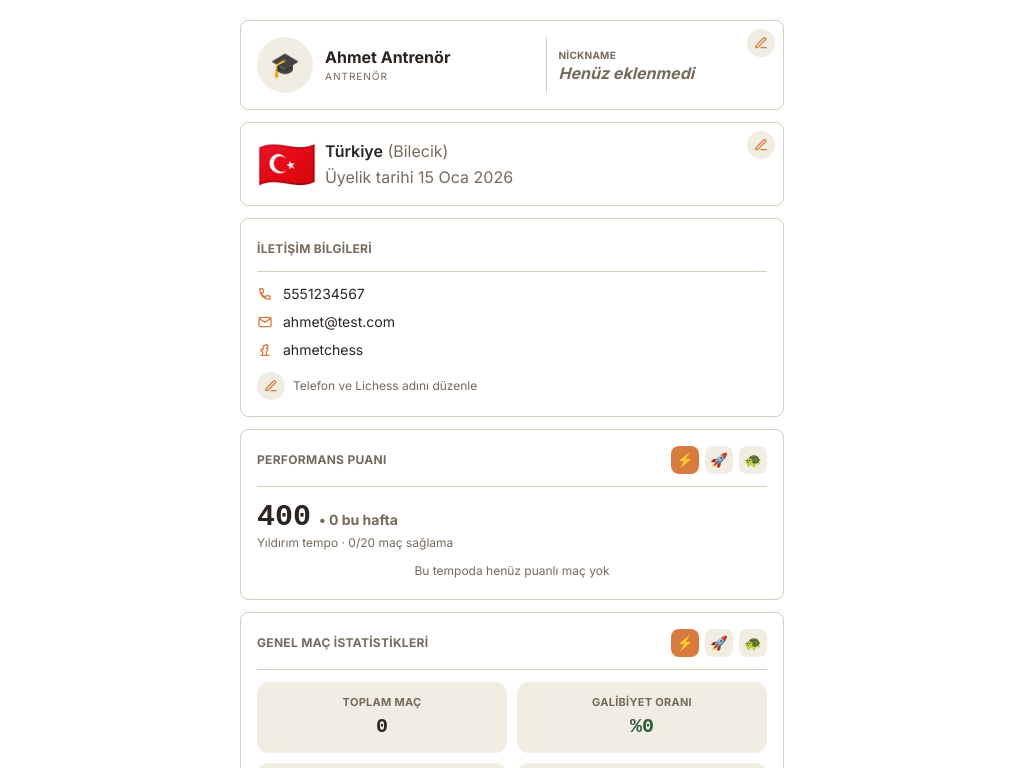
Test: Madde 2026-09-11 (Görsel Turu Aşama B / Madde 3 + S3-b): antrenör profil düzenleme › ülke/il düzenlenir: 81 il listesinden seçilip kaydedilir
Expected: the text "Ahmet Antrenör" is shown, [325,46,450,66]
Click the button named "Ülke ve şehir düzenle" at (761, 145), box [747,131,775,159]
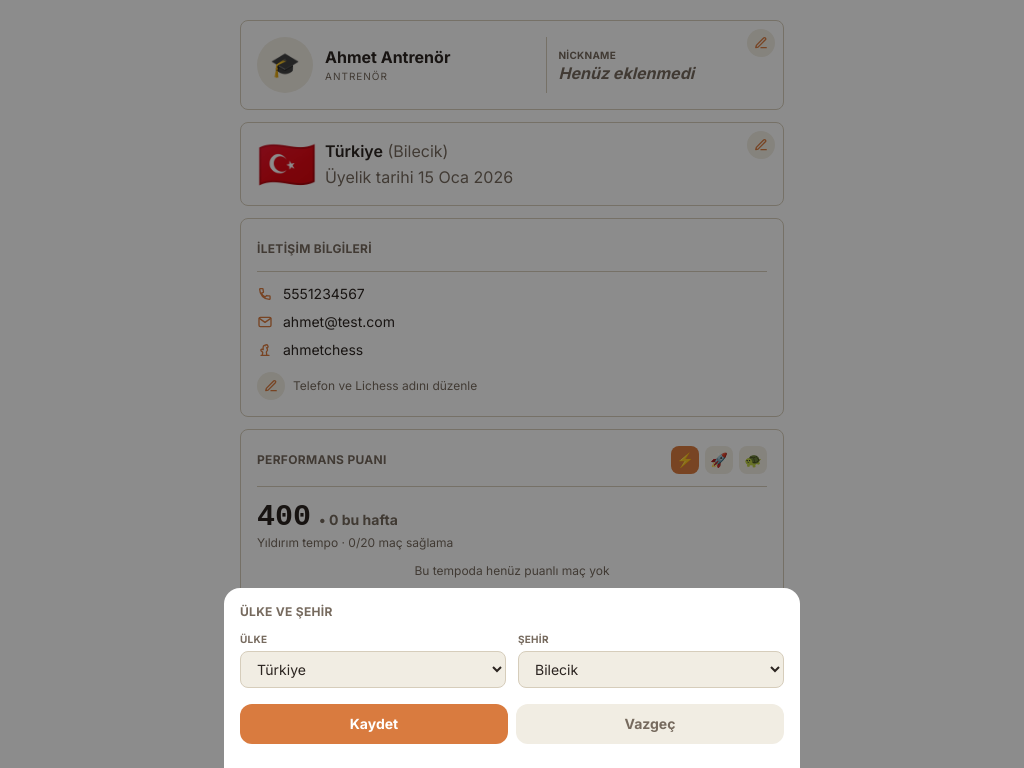
Select "Eskişehir" in the dropdown labelled "Şehir" at (651, 670), box [518,651,784,688]
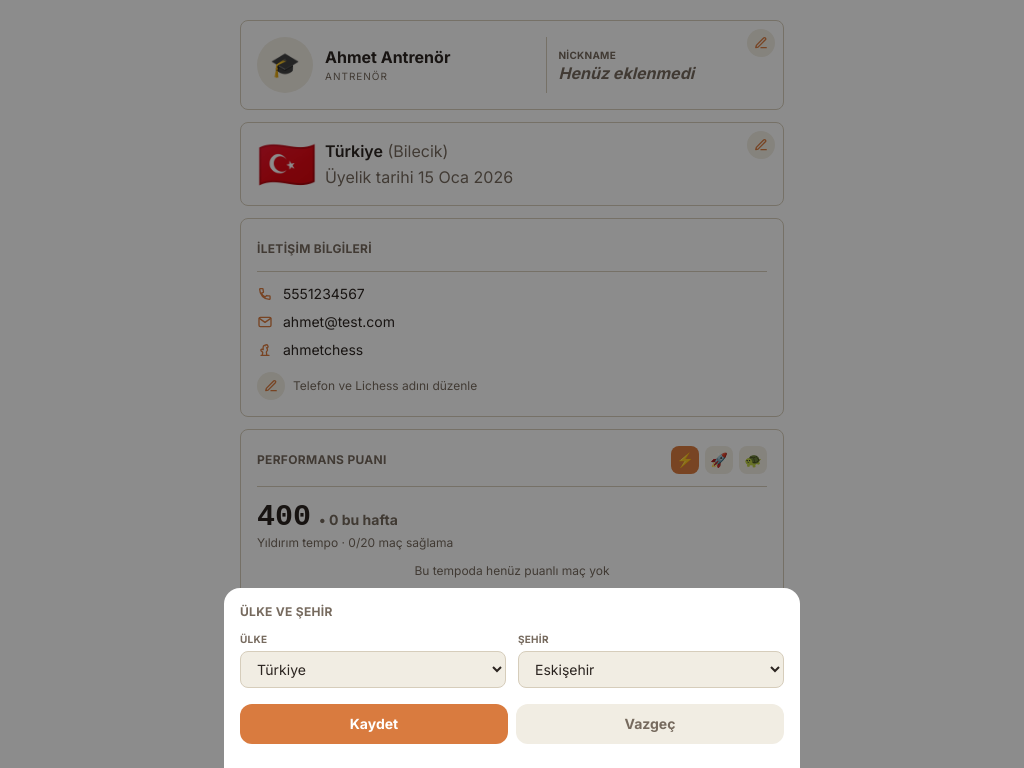
Click the button "Kaydet" at (374, 724), box [240,704,508,744]
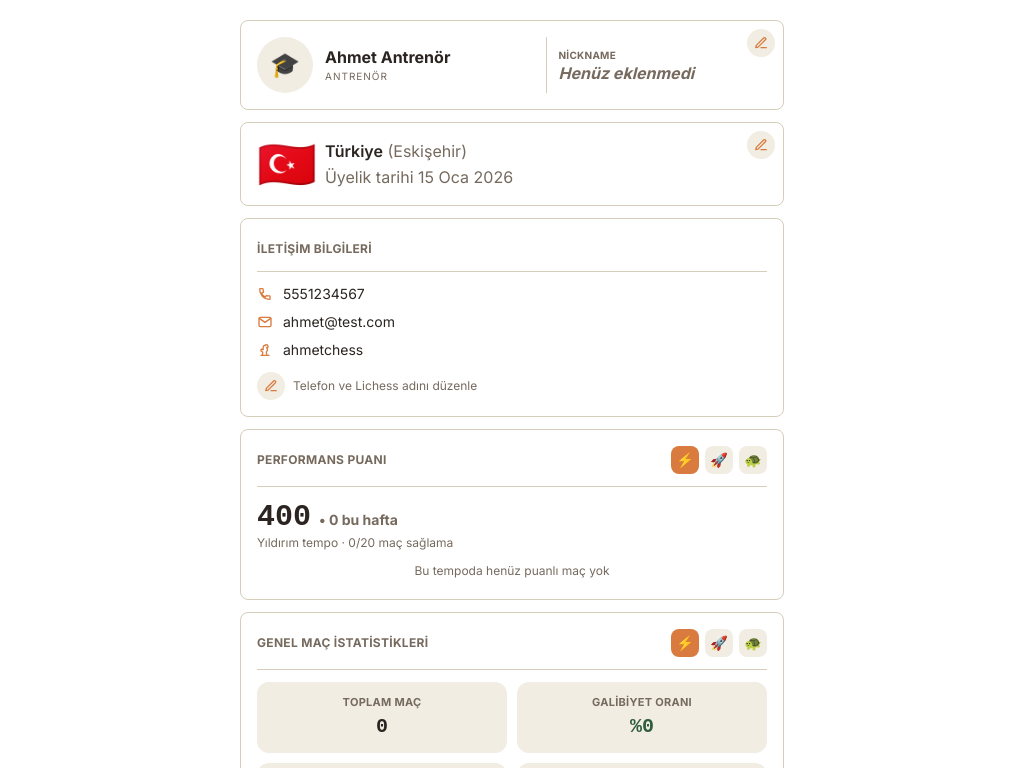
Now the text "(Eskişehir)" is shown, box [383,141,467,161]
